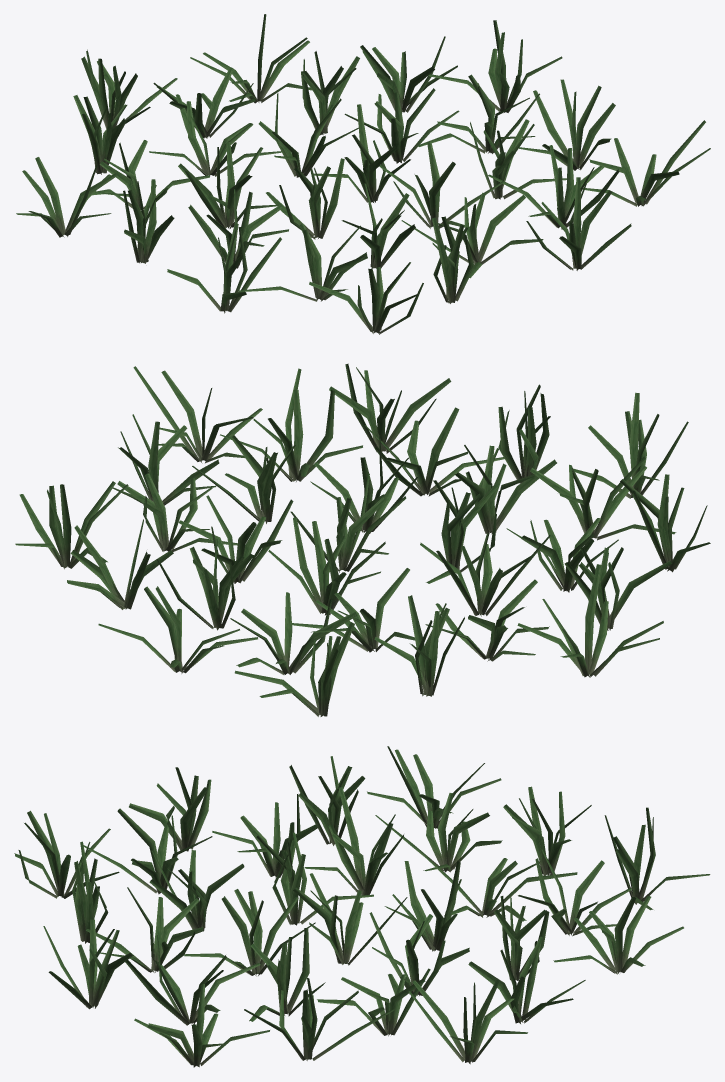
File: grass.glb
The picture shows the model from 3 angles, top to bottom: view 1: azimuth 30°, elevation 25°; view 2: azimuth 150°, elevation 25°; view 3: azimuth 270°, elevation 25°; orthographic projection. The views are drawn at different scales.
Visible parts, largest first — view 1: Polygon; view 2: Polygon; view 3: Polygon.
Boxes of the visible parts, <box> form: Polygon: <box>16,14,710,334</box>; Polygon: <box>15,363,710,716</box>; Polygon: <box>14,746,710,1067</box>.
Bounding box in the file's own units: 1.93 × 0.2879 × 1.9.
Materials: 1 (1 with a texture image).
